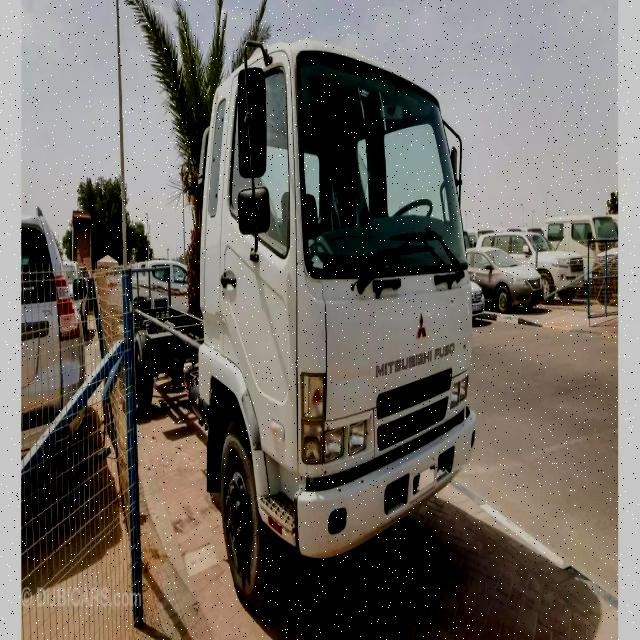truck: (123, 46, 475, 610)
